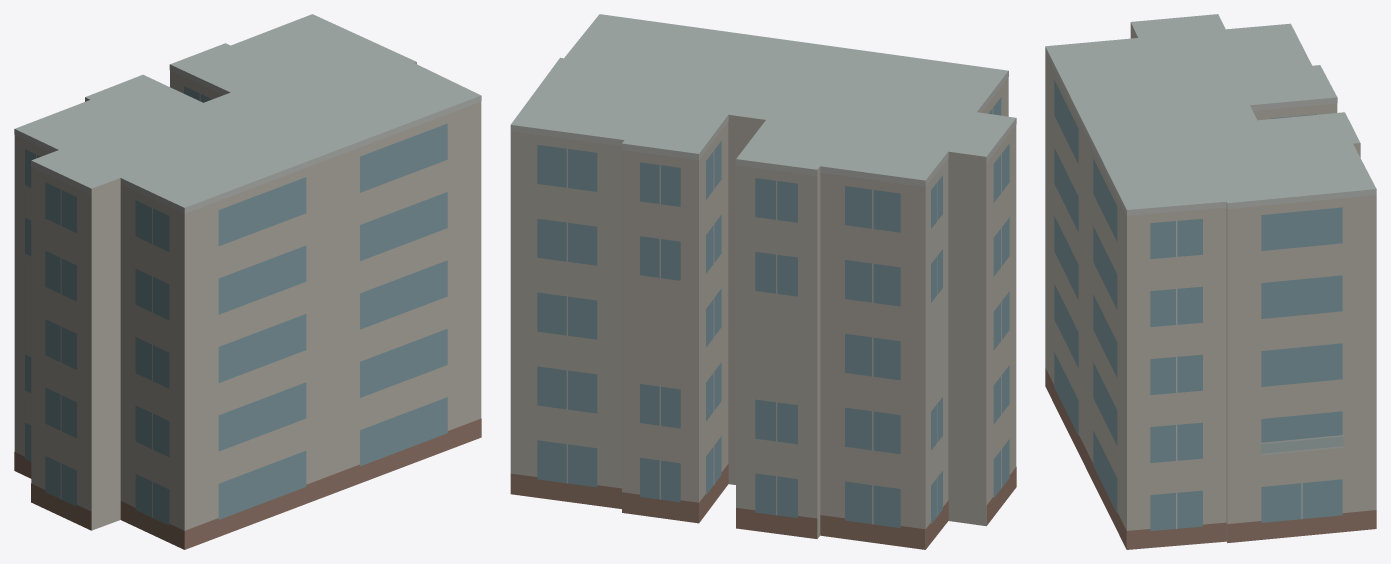
Rendered from survey-upis-32978516.glb.
3 views of the same model, side by side, from view 1: azimuth 30°, elevation 25°; view 2: azimuth 150°, elevation 25°; view 3: azimuth 270°, elevation 25° (orthographic). The views are drawn at different scales.
Parts seen in each view (by area): view 1: survey-upis-32978516.tmp; view 2: survey-upis-32978516.tmp; view 3: survey-upis-32978516.tmp.
Boxes of the visible parts, left/top/right/bottom form: survey-upis-32978516.tmp: left=14, top=14, right=481, bottom=549; survey-upis-32978516.tmp: left=510, top=14, right=1016, bottom=549; survey-upis-32978516.tmp: left=1045, top=14, right=1376, bottom=549.
Bounding box in the file's own units: 17.33 × 14 × 12.38.
